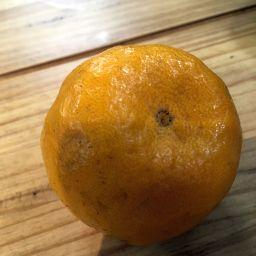Ripe: (41, 43, 243, 243)
